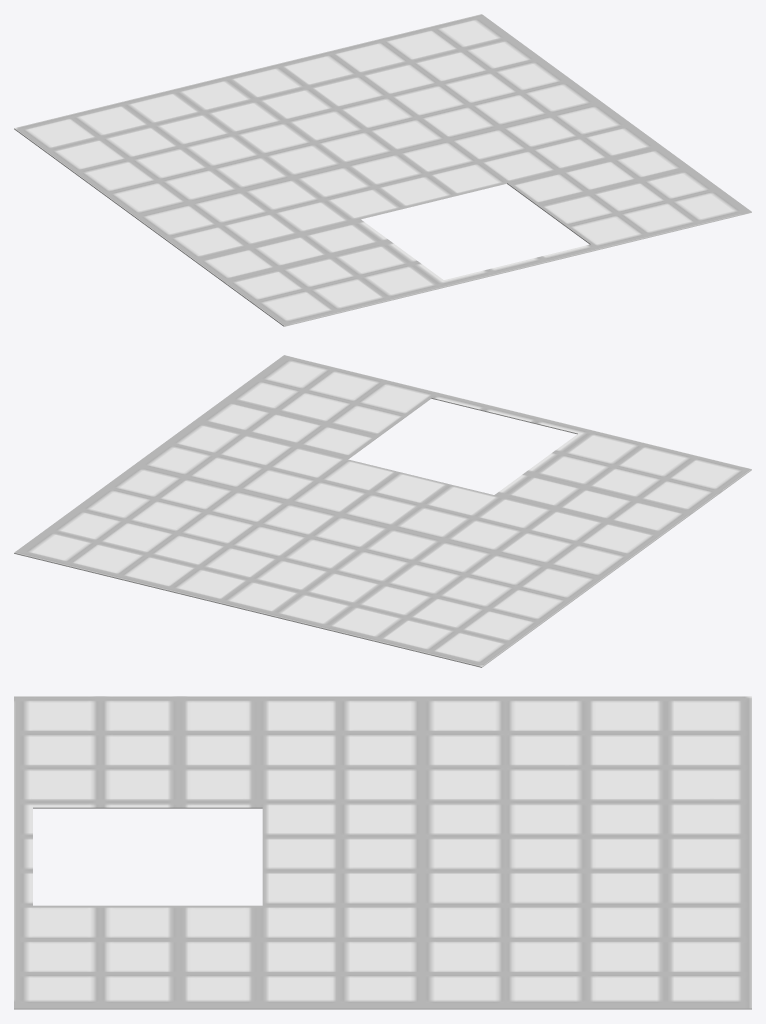
File: ceiling blend.obj
3 views of the same model, one above another, from view 1: azimuth 30°, elevation 25°; view 2: azimuth 150°, elevation 25°; view 3: azimuth 270°, elevation 25° (orthographic). The views are drawn at different scales.
Visible parts, largest first — view 1: Cube_Cube.001; view 2: Cube_Cube.001; view 3: Cube_Cube.001.
Boxes of the visible parts, bbox=[...] form: Cube_Cube.001: bbox=[14, 14, 751, 326]; Cube_Cube.001: bbox=[14, 355, 751, 667]; Cube_Cube.001: bbox=[14, 696, 751, 1009].
Size of the model in its own units: 20 by 0.04 by 20.
